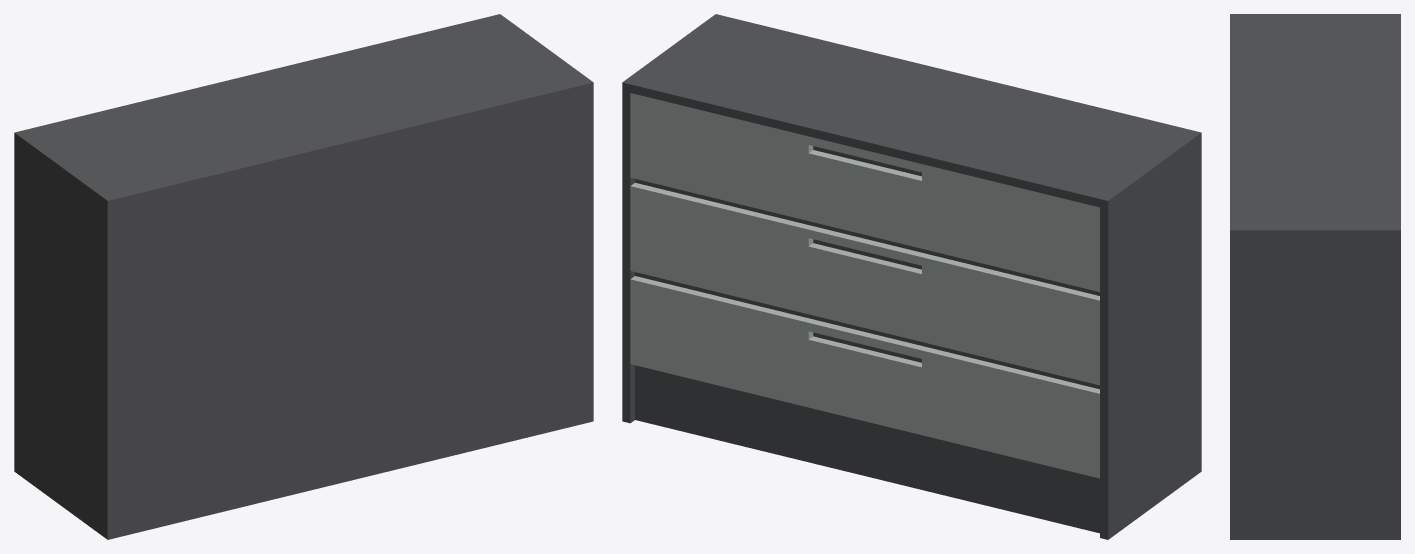
Rendered from file_cabinet_01.dae.
3 renders of one model, left to right at view 1: azimuth 30°, elevation 25°; view 2: azimuth 150°, elevation 25°; view 3: azimuth 270°, elevation 25°, orthographic. The views are drawn at different scales.
Parts seen in each view (by area): view 1: Untitled; view 2: Untitled; view 3: Untitled.
Boxes of the visible parts, x1=… form: Untitled: x1=14, y1=14, x2=593, y2=539; Untitled: x1=622, y1=14, x2=1201, y2=539; Untitled: x1=1230, y1=14, x2=1400, y2=539.
Size of the model in its own units: 1.8 by 0.6 by 1.2.
Materials: 1 (1 with a texture image).
